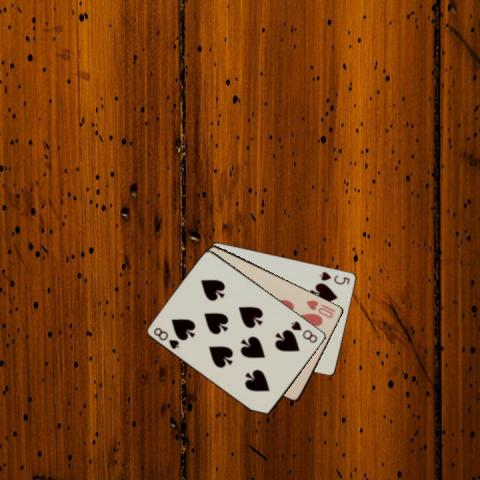10h: (303, 297, 337, 319)
5s: (317, 269, 351, 286)
8s: (288, 318, 319, 345), (150, 324, 180, 350)
